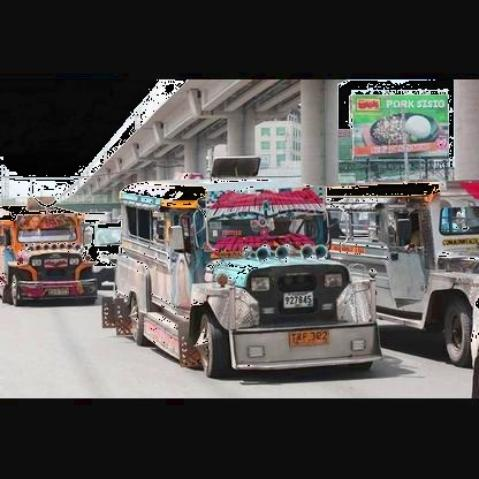jeepney: (119, 176, 385, 379), (317, 151, 479, 363), (0, 190, 98, 309)
